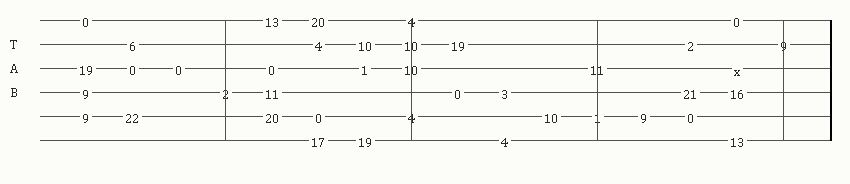0: (82, 14, 93, 27), (129, 62, 140, 75), (175, 62, 186, 75), (268, 62, 279, 75), (315, 110, 326, 123), (454, 86, 465, 99), (687, 110, 698, 123), (733, 14, 744, 27)
1: (361, 62, 372, 75), (594, 110, 605, 123)
10: (358, 38, 376, 51), (404, 62, 422, 75), (404, 38, 422, 51), (544, 110, 562, 123)
11: (265, 86, 283, 99), (590, 62, 608, 75)
13: (265, 14, 283, 27), (730, 134, 748, 147)
16: (730, 86, 748, 99)
17: (311, 134, 329, 147)
19: (79, 62, 97, 75), (358, 134, 376, 147), (451, 38, 469, 51)
2: (222, 86, 233, 99), (687, 38, 698, 51)
20: (265, 110, 283, 123), (311, 14, 329, 27)
21: (683, 86, 701, 99)
22: (125, 110, 143, 123)
3: (501, 86, 512, 99)
4: (315, 38, 326, 51), (408, 14, 419, 27), (408, 110, 419, 123), (501, 134, 512, 147)
6: (129, 38, 140, 51)
9: (82, 110, 93, 123), (82, 86, 93, 99), (640, 110, 651, 123), (780, 38, 791, 51)
x: (734, 63, 744, 73)
